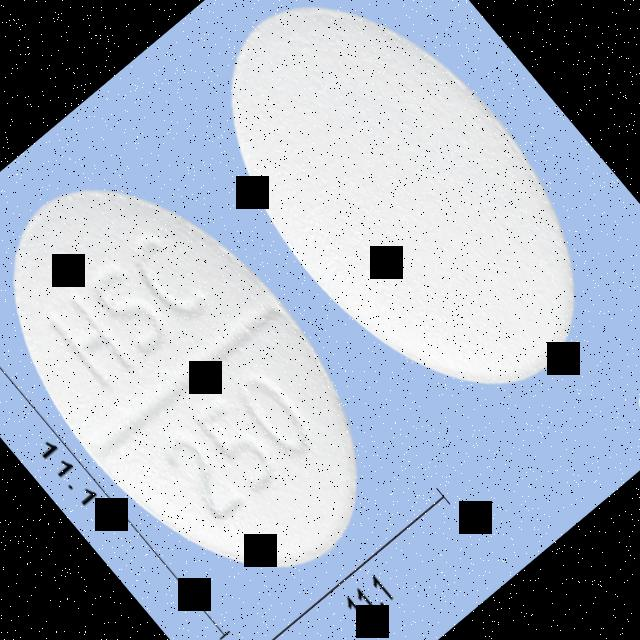Proxacinby Tab: (0, 124, 425, 630)
